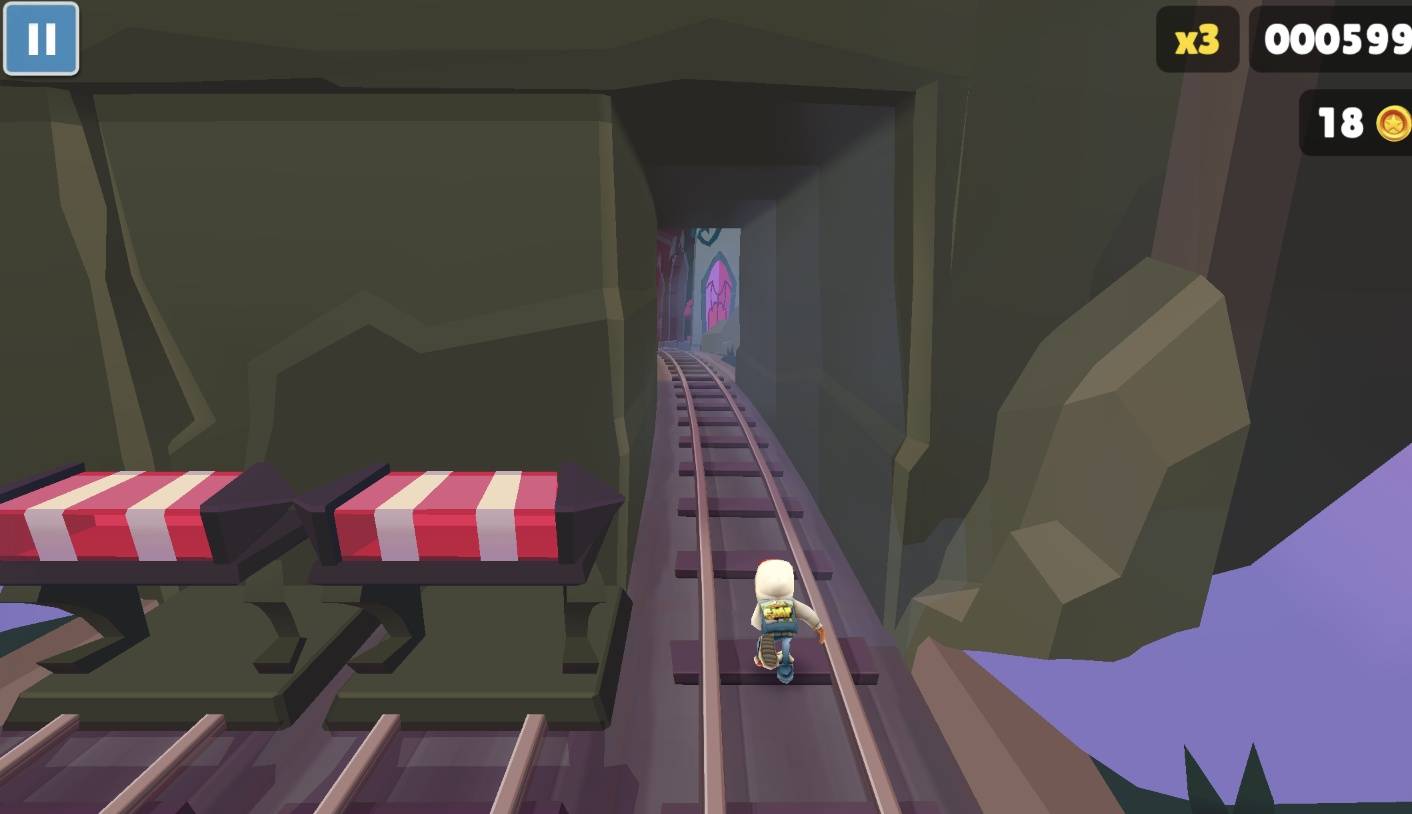ground_barrier: (0, 454, 339, 740), (314, 454, 630, 740)
